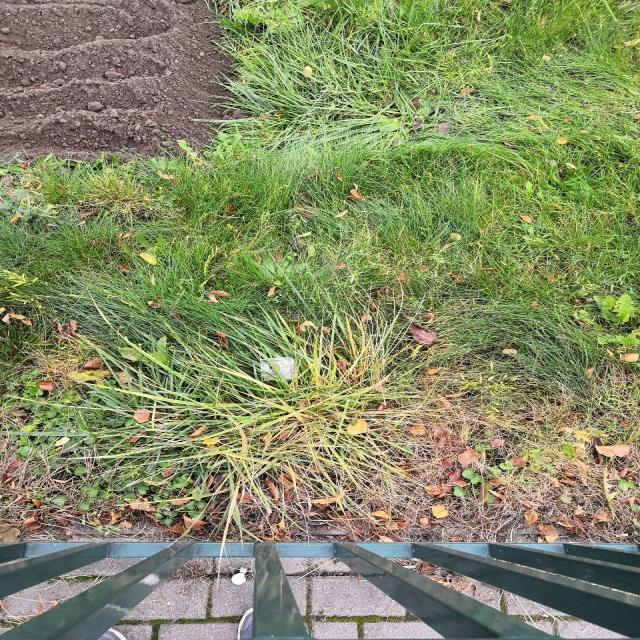rubbish: (259, 355, 297, 382)
